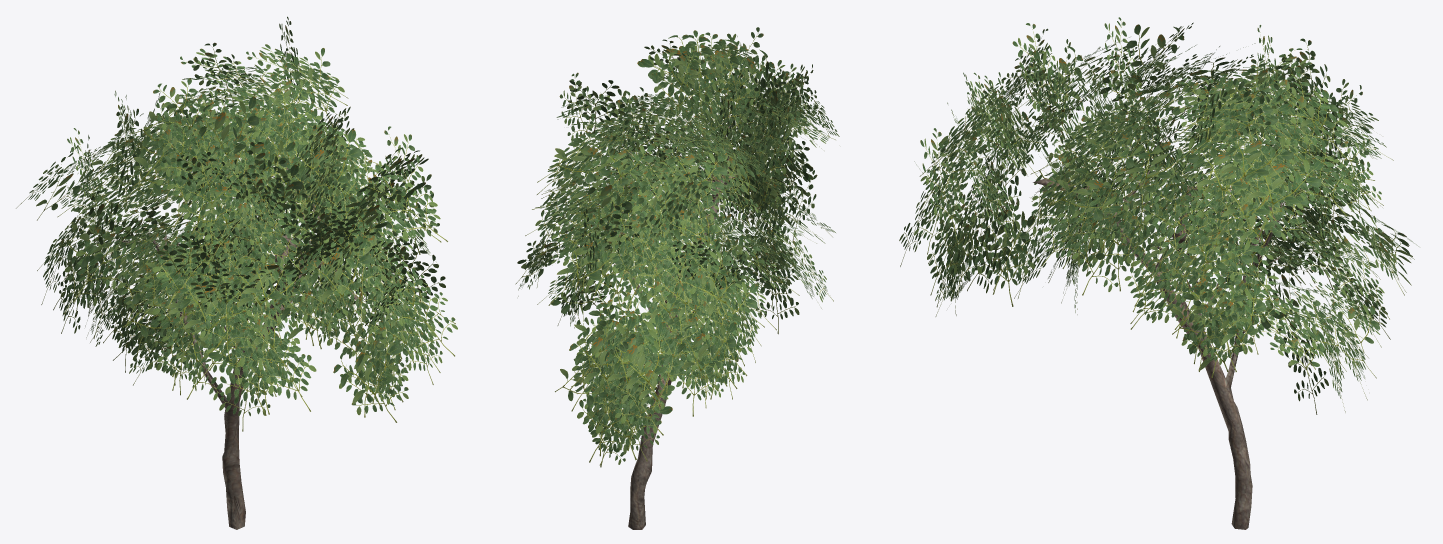
Rendered from broadleaf-b-mid.glb.
The picture shows the model from 3 angles, left to right: view 1: azimuth 30°, elevation 25°; view 2: azimuth 150°, elevation 25°; view 3: azimuth 270°, elevation 25°; orthographic projection. The views are drawn at different scales.
Parts seen in each view (by area): view 1: wood; view 2: wood; view 3: wood.
Part boxes in pixels (x1,y1,x2,y2): wood: [16, 16, 457, 529]; wood: [515, 27, 839, 529]; wood: [899, 17, 1418, 529].
Size of the model in its own units: 9.02 by 13.28 by 12.85.
2 materials, 2 textured.
